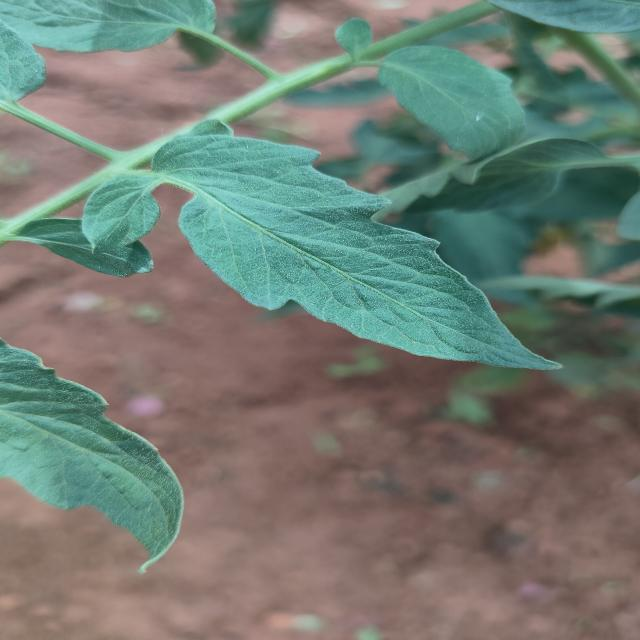tomato_healthy: (156, 138, 559, 374), (3, 346, 184, 572), (374, 46, 525, 150)
